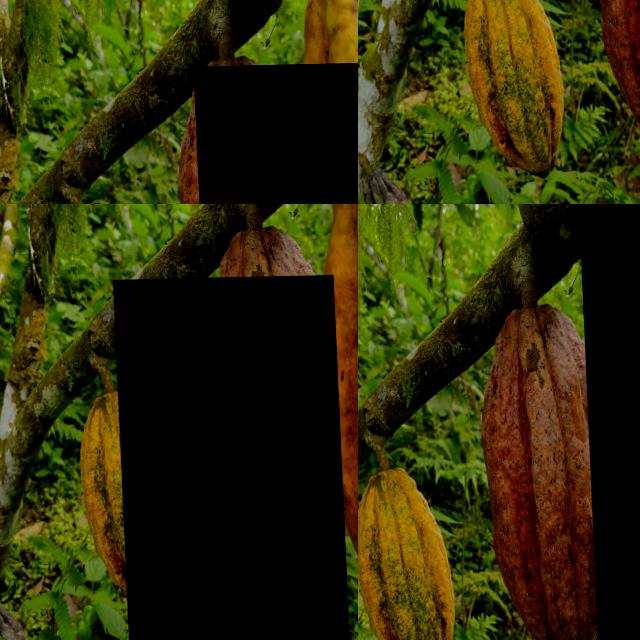Fitoftora: (476, 0, 640, 134)
Sana: (111, 277, 347, 640), (473, 302, 620, 640), (578, 204, 640, 640), (192, 64, 358, 204), (358, 465, 453, 640), (314, 343, 358, 640)
